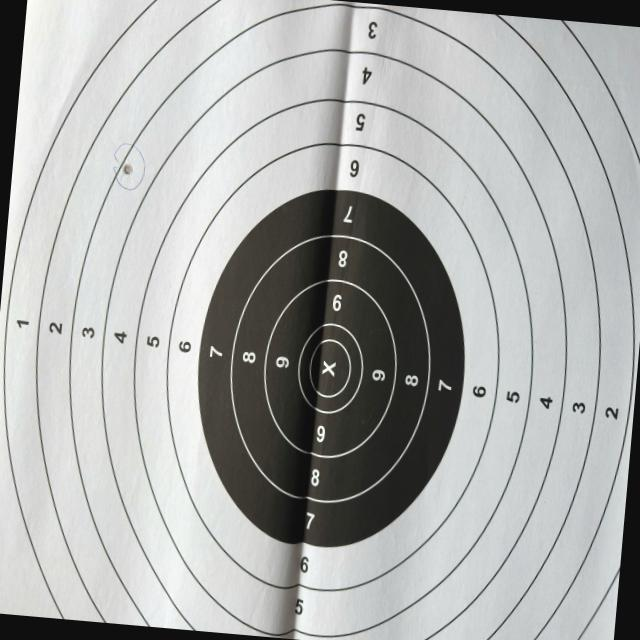bullet: (120, 167, 132, 174)
target: (0, 0, 640, 640)
